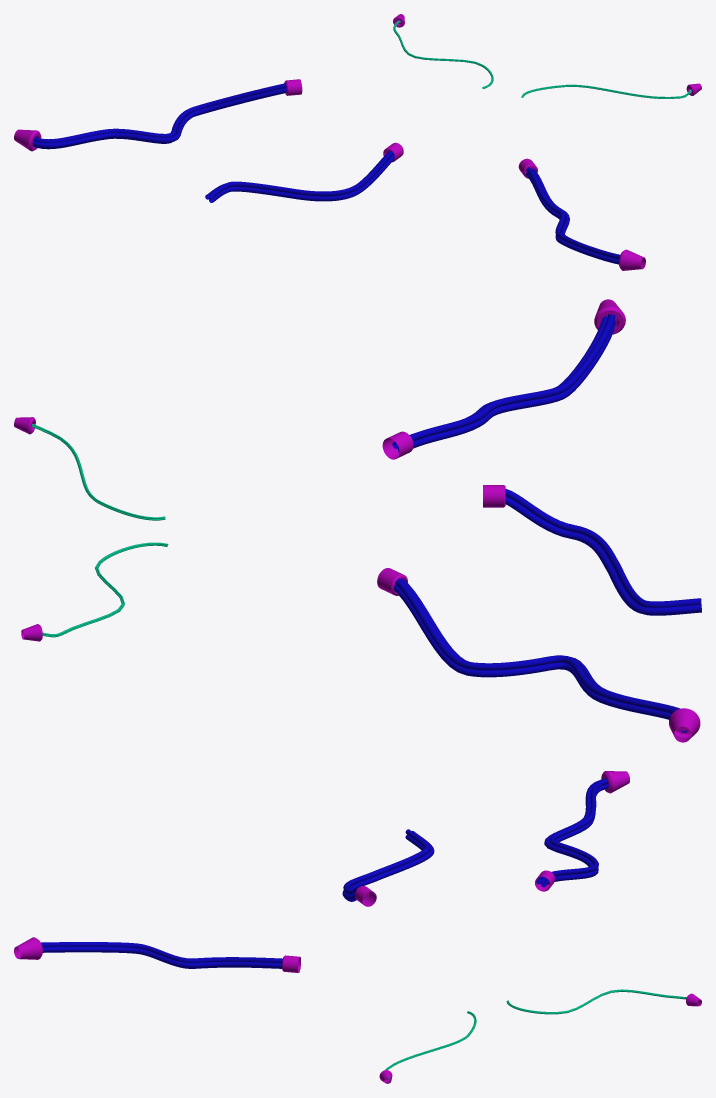
Rendered from CablesMAuinaFInal.fbx.
3 renders of one model, top to bottom at view 1: azimuth 30°, elevation 25°; view 2: azimuth 150°, elevation 25°; view 3: azimuth 270°, elevation 25°, orthographic. The views are drawn at different scales.
Parts seen in each view (by area): view 1: Cable1.003, Cable1.002, Cable1.001, Cable1; view 2: Cable1.003, Cable1.001, Cable1.002, Cable1; view 3: Cable1.001, Cable1.003, Cable1.002, Cable1.
Boxes of the visible parts, bbox=[...] form: Cable1.003: bbox=[14, 79, 302, 151]; Cable1.002: bbox=[205, 142, 403, 202]; Cable1.001: bbox=[518, 158, 645, 270]; Cable1: bbox=[393, 14, 701, 98]; Cable1.003: bbox=[377, 568, 700, 742]; Cable1.001: bbox=[382, 299, 625, 459]; Cable1.002: bbox=[483, 485, 701, 615]; Cable1: bbox=[14, 417, 168, 641]; Cable1.001: bbox=[14, 937, 300, 972]; Cable1.003: bbox=[535, 771, 629, 891]; Cable1.002: bbox=[342, 829, 434, 906]; Cable1: bbox=[379, 989, 701, 1083].
Size of the model in its own units: 801 by 56.65 by 783.
